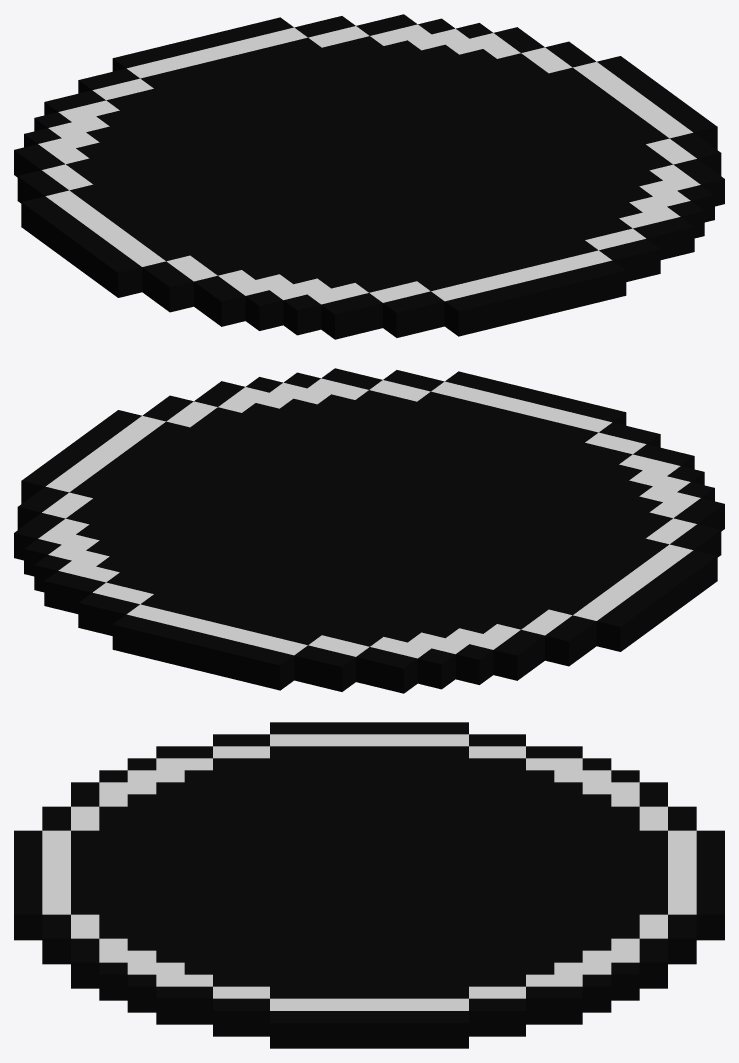
The model's file is rug black.obj.
3 views of the same model, one above another, from view 1: azimuth 30°, elevation 25°; view 2: azimuth 150°, elevation 25°; view 3: azimuth 270°, elevation 25° (orthographic). The views are drawn at different scales.
Parts seen in each view (by area): view 1: rug black; view 2: rug black; view 3: rug black.
Part boxes in pixels (x1=…): rug black: x1=14, y1=14, x2=724, y2=339; rug black: x1=14, y1=368, x2=724, y2=693; rug black: x1=14, y1=722, x2=724, y2=1048.
Size of the model in its own units: 25 by 1 by 25.
